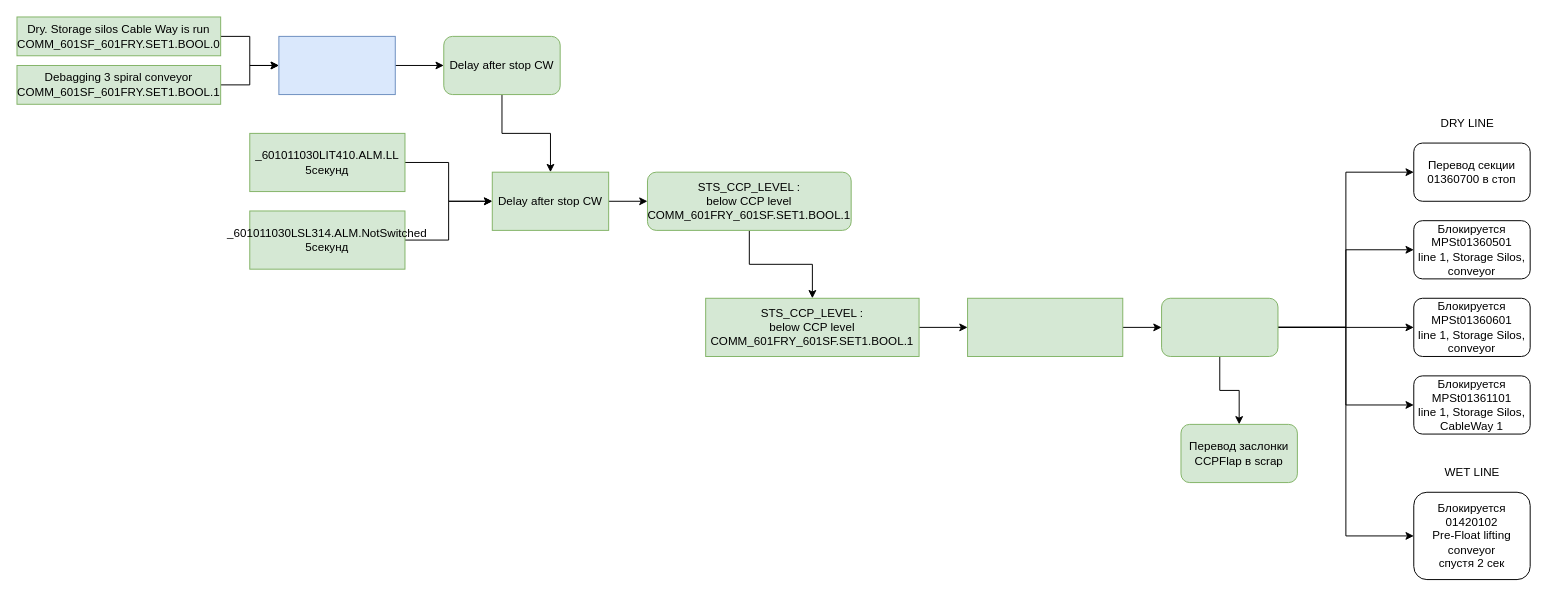
The diagram is 1547 pixels wide and 597 high, and some of its shapes have lost their labels. The centre of each missing label's shape, as x and y in pixels:
"KKT Manager KKT_OIL_LEVEL_M" goes at (x=1219, y=326).
"TIMER OFF 480 секунд" goes at (x=336, y=65).
"Жаровня в 11шаге _601011030.CC.Production" goes at (x=1045, y=326).
